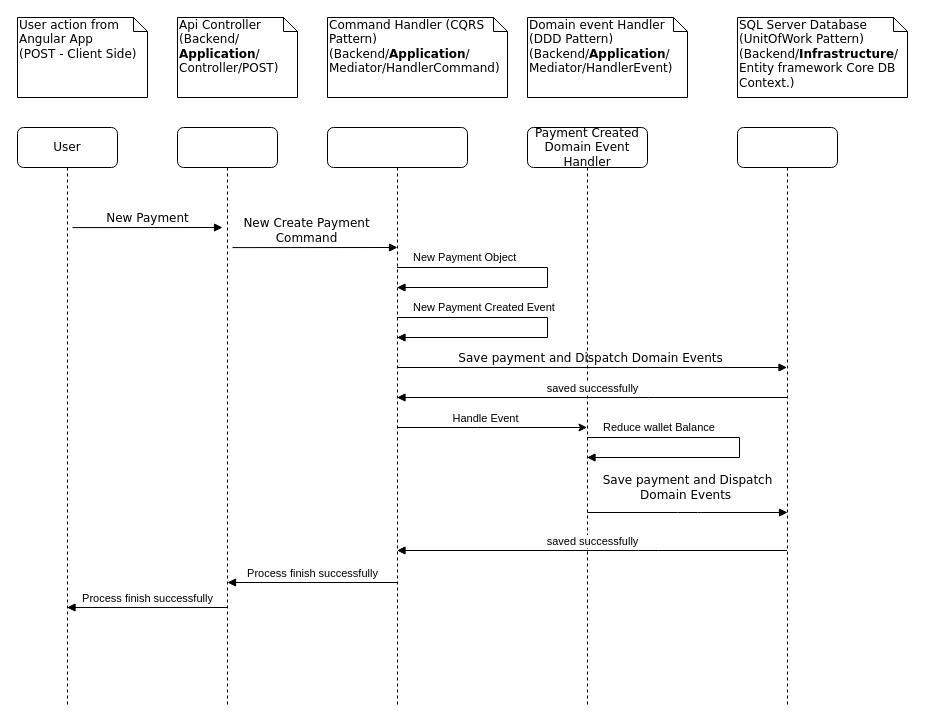
The diagram is 925 pixels wide and 725 high, and some of its shapes have lost their labels. The box of each missing label's shape, as (x1, y1, x2, y2) in pixels:
Create Payment Command Handler: (326, 126, 468, 708)
Payment Controller: (176, 126, 278, 708)
Wallet Context: (736, 126, 838, 708)
